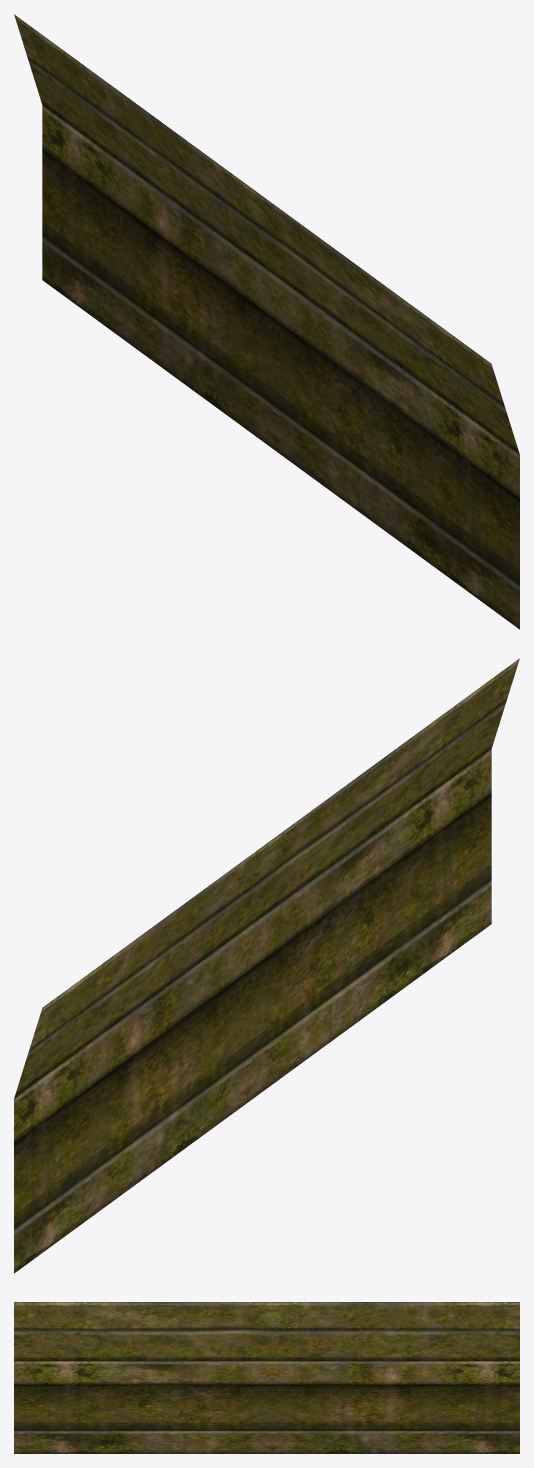
File: OVERHILL_A_01_OBJECT316.fbx
The picture shows the model from 3 angles, top to bottom: view 1: azimuth 30°, elevation 25°; view 2: azimuth 150°, elevation 25°; view 3: azimuth 270°, elevation 25°; orthographic projection. The views are drawn at different scales.
Parts seen in each view (by area): view 1: OVERHILL_A_01_OBJECT316; view 2: OVERHILL_A_01_OBJECT316; view 3: OVERHILL_A_01_OBJECT316.
Boxes of the visible parts, box(x1,y1,x2,y2) form: OVERHILL_A_01_OBJECT316: box(14, 14, 519, 629); OVERHILL_A_01_OBJECT316: box(14, 658, 519, 1273); OVERHILL_A_01_OBJECT316: box(14, 1302, 519, 1453).
Size of the model in its own units: 1348 by 12361 by 39195.
Materials: 2 (2 with a texture image).
